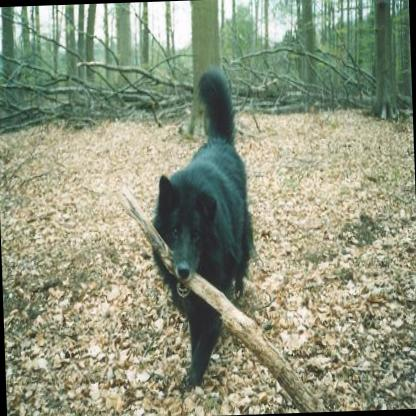groenendael: (113, 67, 260, 386)
